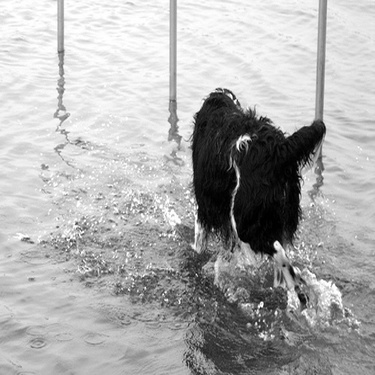dog: (160, 78, 341, 288)
